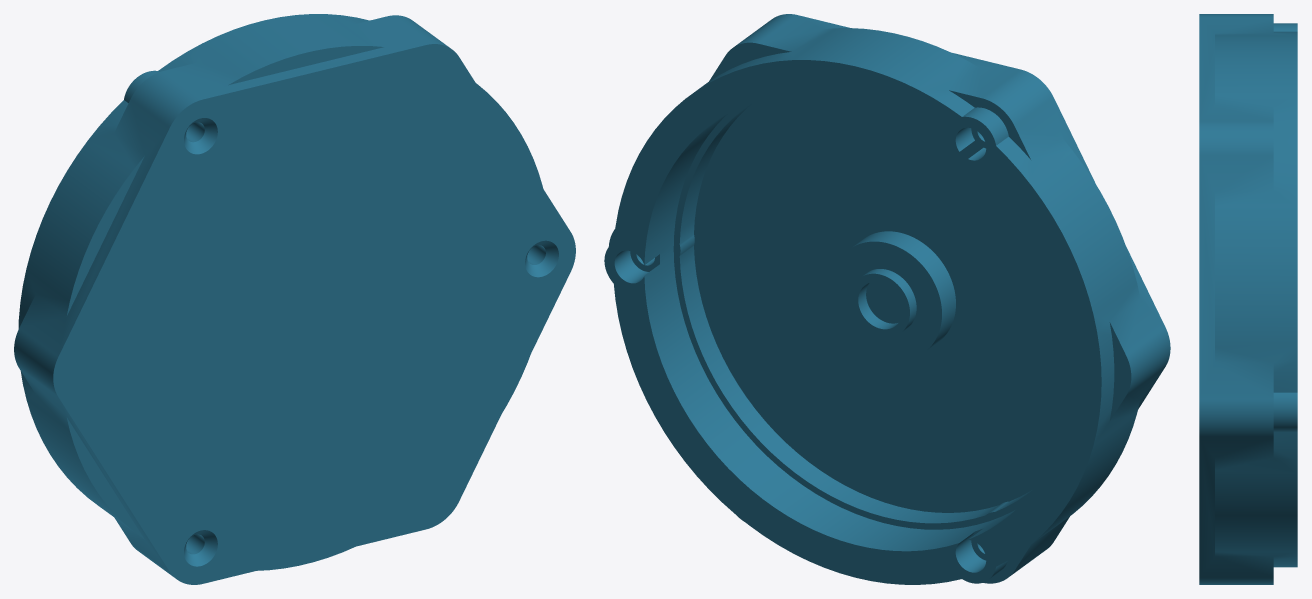
Rendered from Cap_rounded_hexagon.obj.
3 views of the same model, side by side, from view 1: azimuth 30°, elevation 25°; view 2: azimuth 150°, elevation 25°; view 3: azimuth 270°, elevation 25° (orthographic). The views are drawn at different scales.
Visible parts, largest first — view 1: Cap_rounded_hexagon; view 2: Cap_rounded_hexagon; view 3: Cap_rounded_hexagon.
Part boxes in pixels (bbox=[...]): Cap_rounded_hexagon: bbox=[14, 14, 575, 584]; Cap_rounded_hexagon: bbox=[604, 14, 1170, 584]; Cap_rounded_hexagon: bbox=[1199, 14, 1297, 584].
Size of the model in its own units: 61.6 by 57.6 by 10.6.
